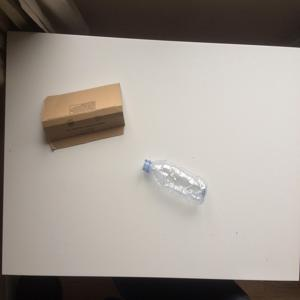cardboard: (39, 72, 140, 146)
plastic bottle: (124, 142, 210, 209)
